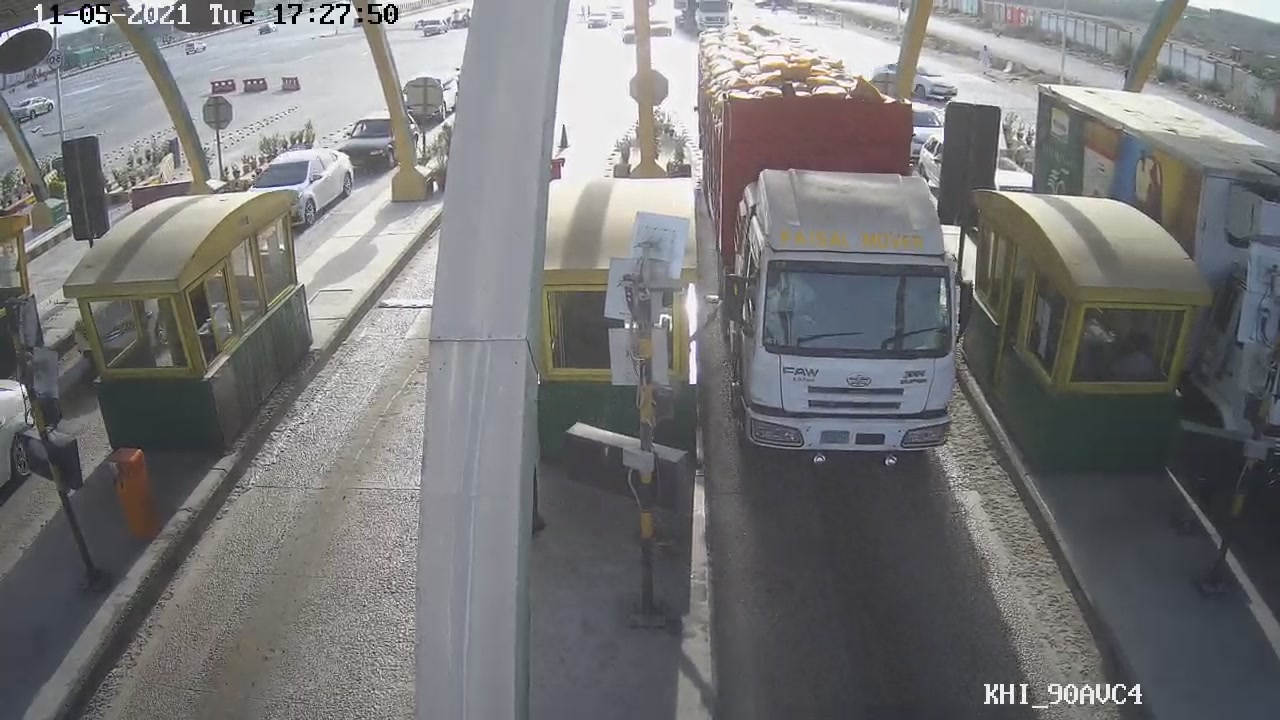F6: (700, 27, 957, 471)
